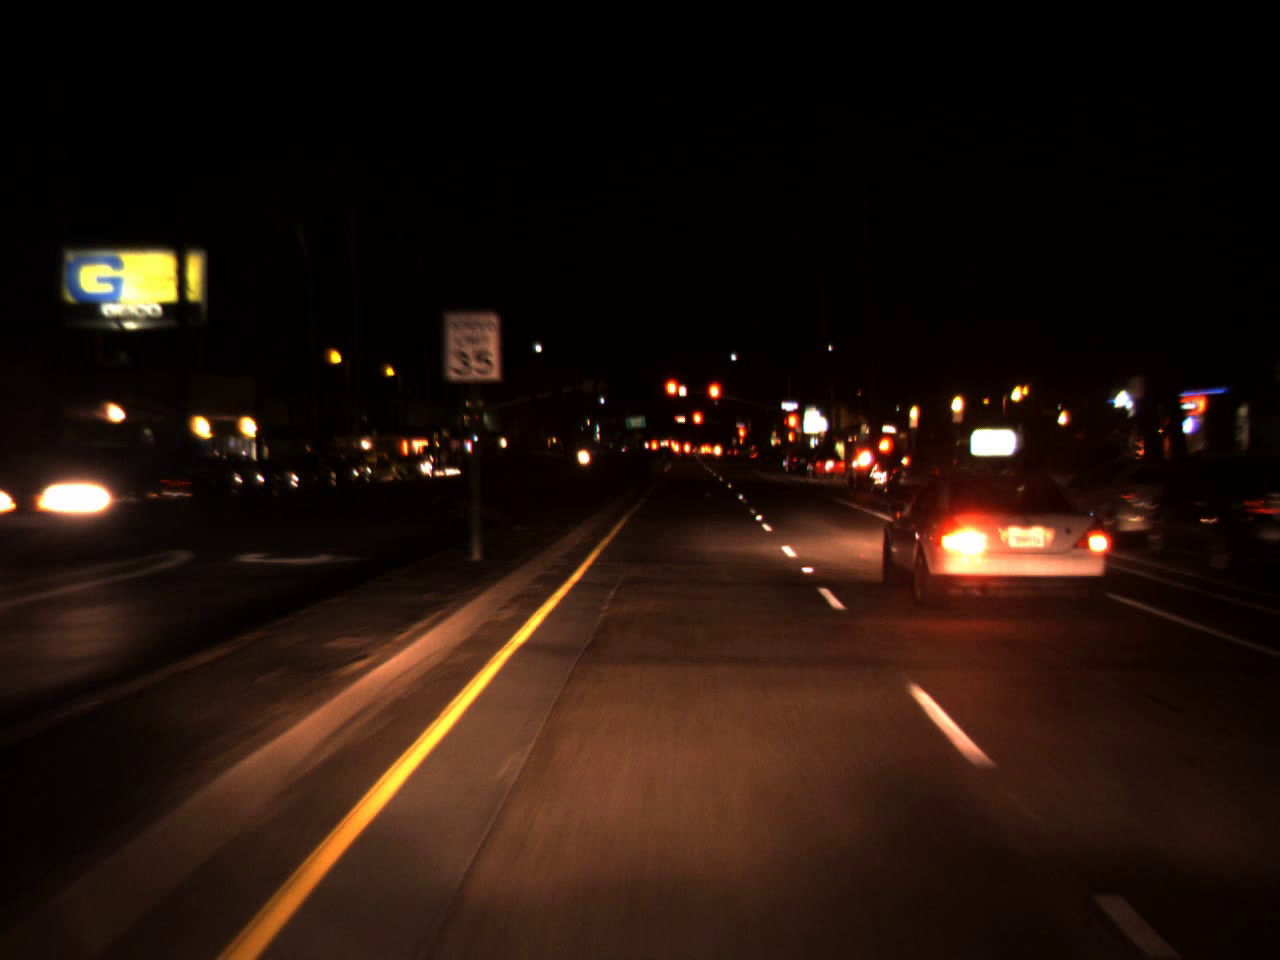stop: (662, 376, 683, 416), (706, 380, 722, 417), (785, 410, 800, 447), (690, 409, 703, 441), (735, 424, 747, 451)
